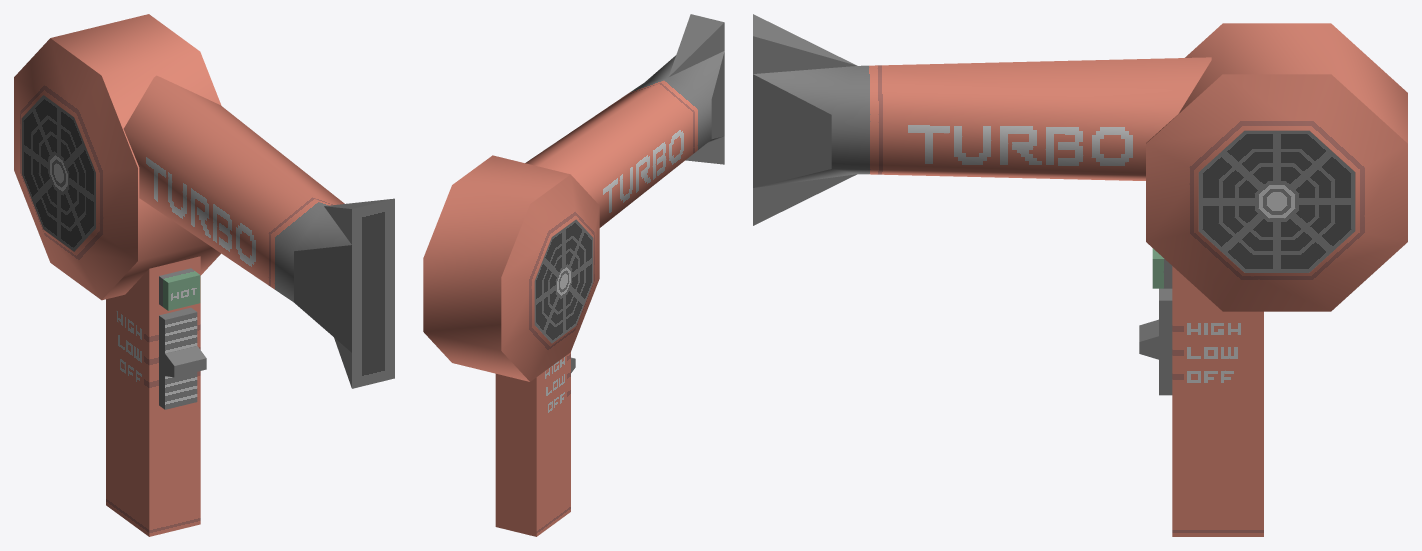
File: 02dd_Hair_Dryer.glb
The picture shows the model from 3 angles, left to right: view 1: azimuth 30°, elevation 25°; view 2: azimuth 150°, elevation 25°; view 3: azimuth 270°, elevation 25°; orthographic projection. The views are drawn at different scales.
Parts seen in each view (by area): view 1: part_0; view 2: part_0; view 3: part_0.
Part boxes in pixels (box(x1,y1,x2,y2)): part_0: box(14, 14, 394, 536); part_0: box(423, 14, 724, 536); part_0: box(753, 14, 1407, 536).
Bounding box in the file's own units: 0.0588 × 0.1995 × 0.2375.
Materials: 1 (1 with a texture image).
